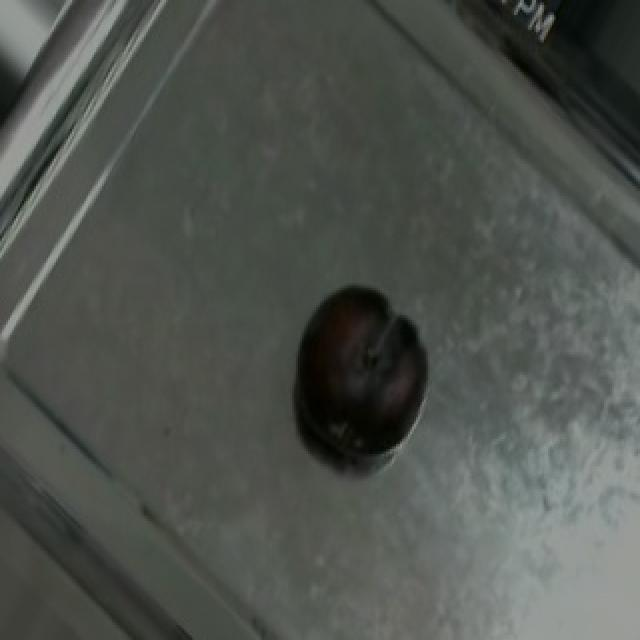Fruit: (276, 266, 440, 472)
